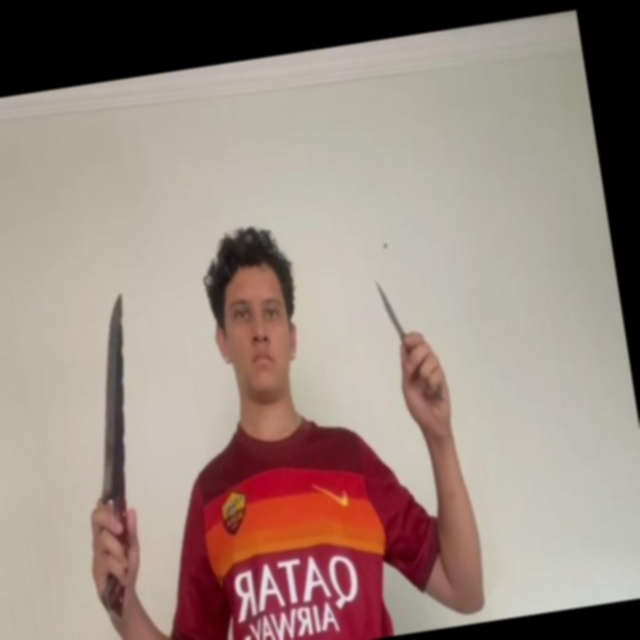Sharp-Object: (72, 291, 154, 504), (375, 280, 402, 337)
